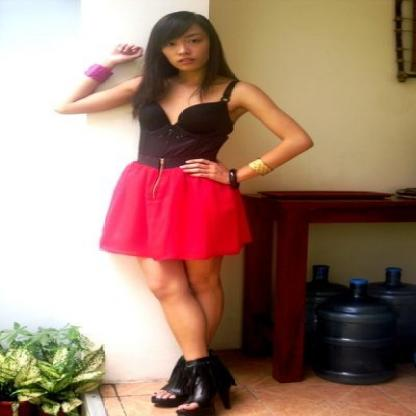shirt: (137, 91, 233, 172)
shoe: (152, 350, 236, 416)
skirt: (100, 161, 250, 262)
